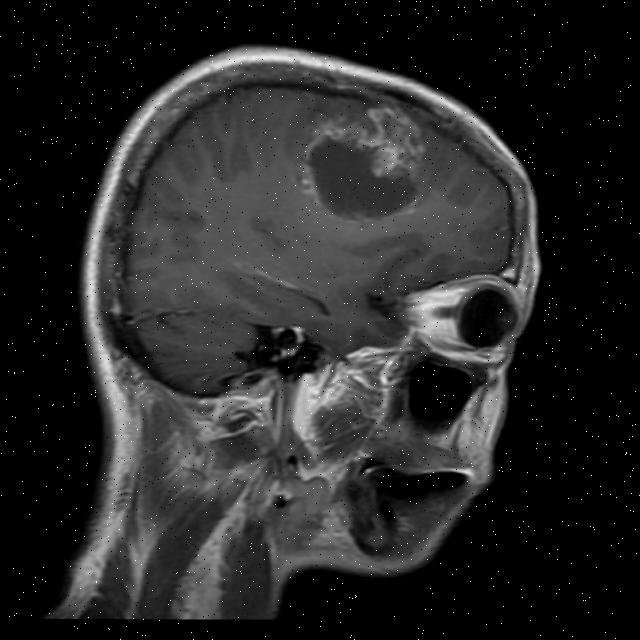Glioma: (293, 95, 432, 231)
